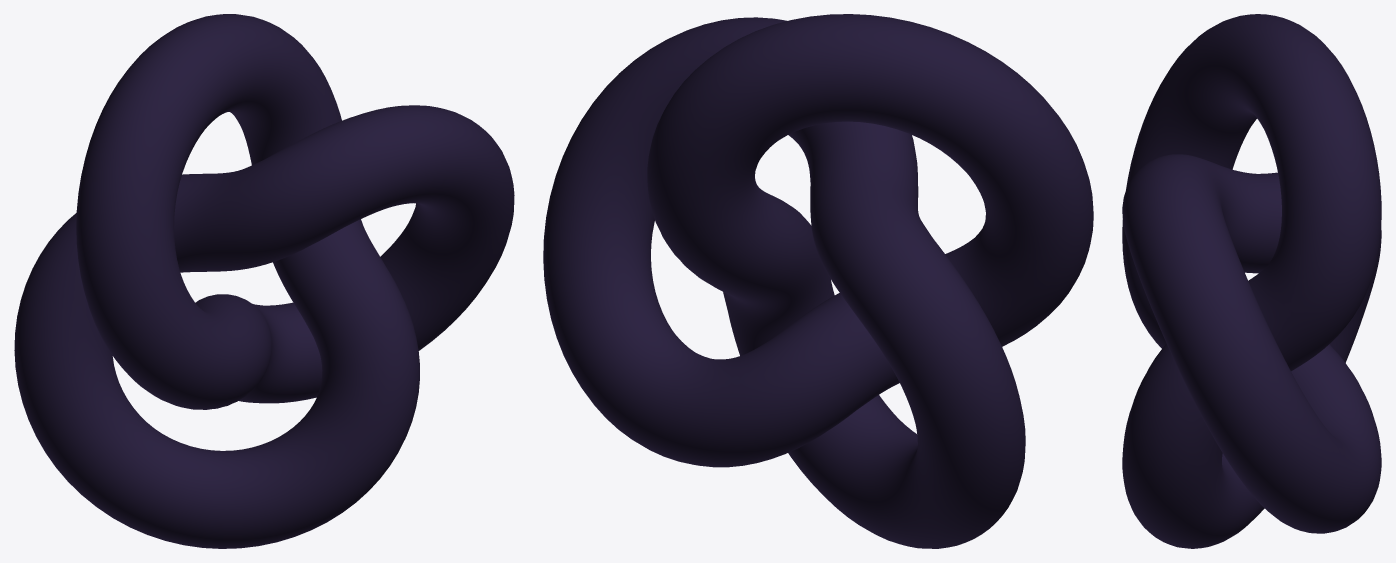
File: demo.glb
3 renders of one model, left to right at view 1: azimuth 30°, elevation 25°; view 2: azimuth 150°, elevation 25°; view 3: azimuth 270°, elevation 25°, orthographic. The views are drawn at different scales.
Bounding box in the file's own units: 1.06 × 1.1 × 0.5199.
